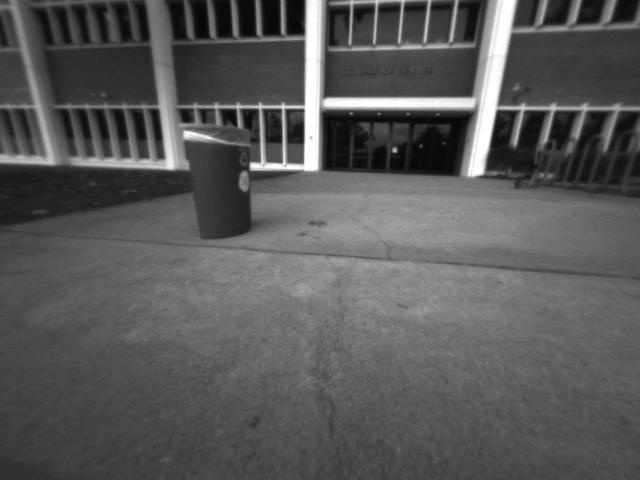trashcan_open: (179, 122, 257, 245)
